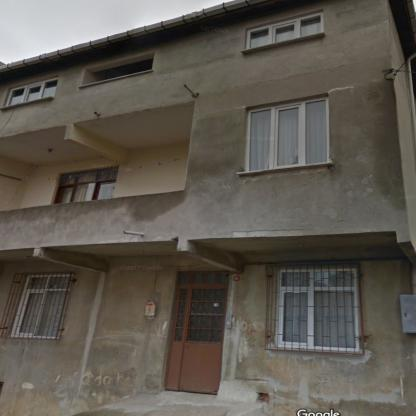door: (166, 287, 228, 393)
window: (276, 269, 359, 351), (247, 98, 328, 171), (12, 276, 72, 338), (248, 13, 322, 48), (55, 167, 118, 202), (6, 78, 57, 106), (179, 273, 227, 283)
